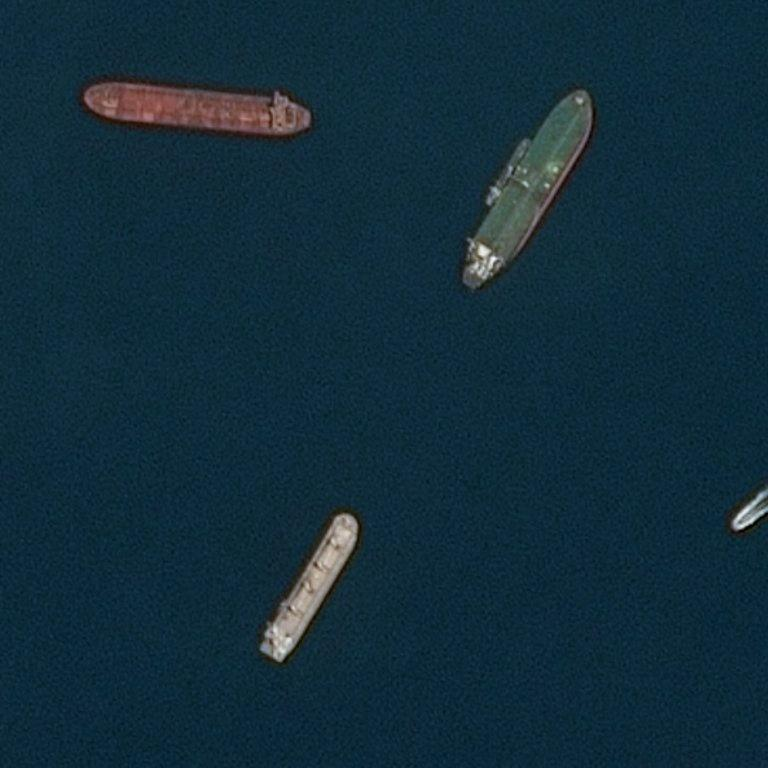ship: (493, 80, 561, 294), (81, 0, 317, 61), (294, 508, 325, 667), (574, 87, 589, 99), (83, 88, 93, 104), (455, 279, 467, 290), (302, 107, 314, 117), (302, 123, 314, 132), (4, 639, 11, 651), (460, 44, 467, 56), (347, 513, 355, 521), (277, 656, 284, 664), (731, 525, 738, 531), (729, 529, 734, 532), (733, 522, 733, 523), (738, 529, 738, 531)
